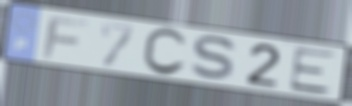2: (246, 42, 284, 89)
7: (98, 20, 137, 69)
C: (140, 27, 190, 77)
E: (287, 47, 342, 97)
F: (40, 15, 92, 61)
S: (186, 34, 242, 84)
